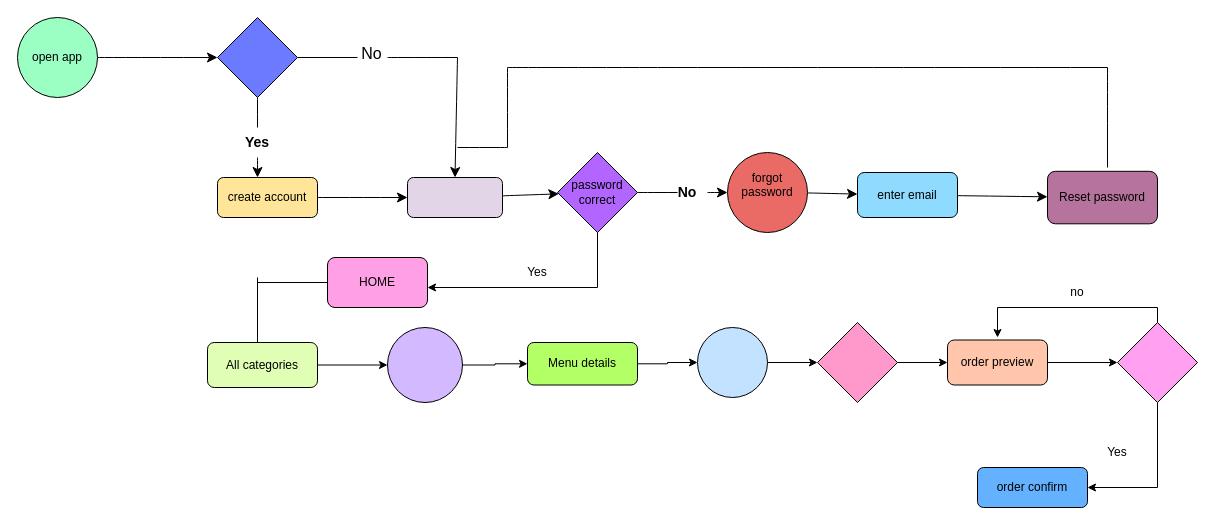
Some shapes in this 1215 by 525 pixel diagram are drawn without their labels. The box of each missing label's shape, as (x1, y1, x2, y2) in pixels:
add item to order: (696, 326, 768, 398)
Click menu: (386, 326, 462, 402)
confirm order: (1116, 322, 1198, 402)
login: (406, 176, 502, 218)
New user?: (216, 16, 298, 98)
pickup delivery: (816, 322, 898, 402)
